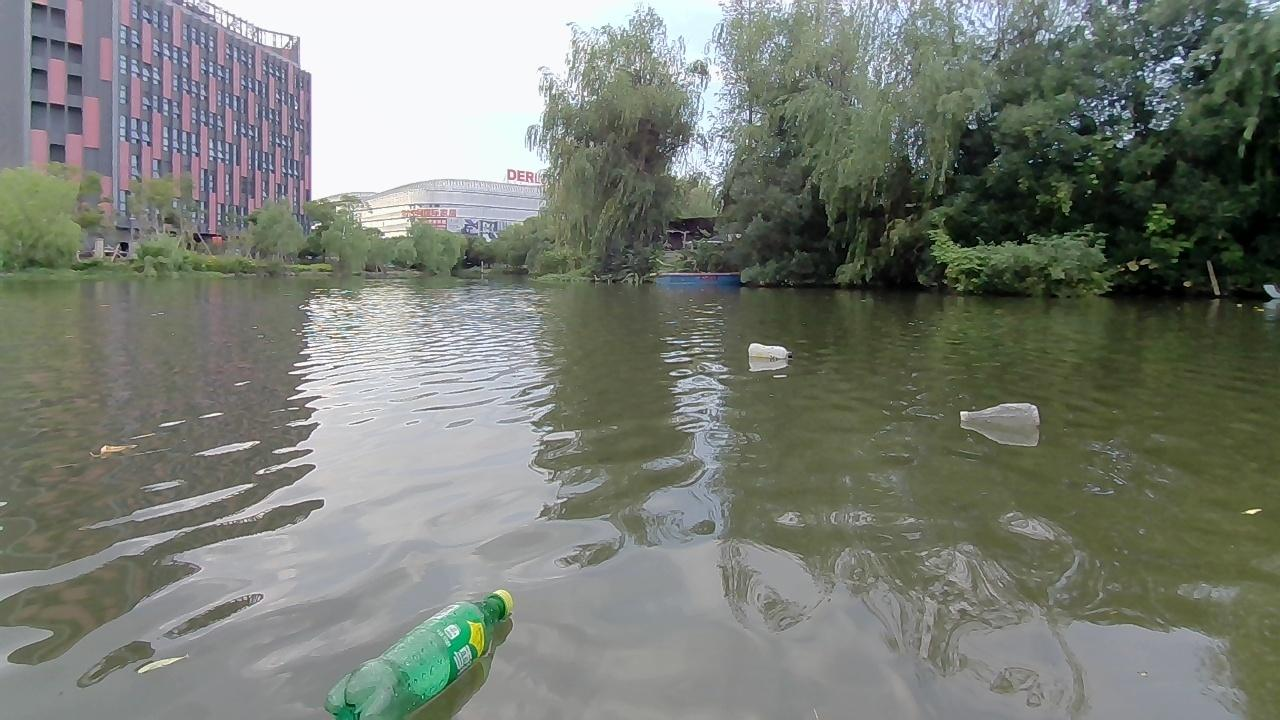bottle: (326, 572, 522, 719), (961, 397, 1040, 429), (745, 342, 797, 362)
